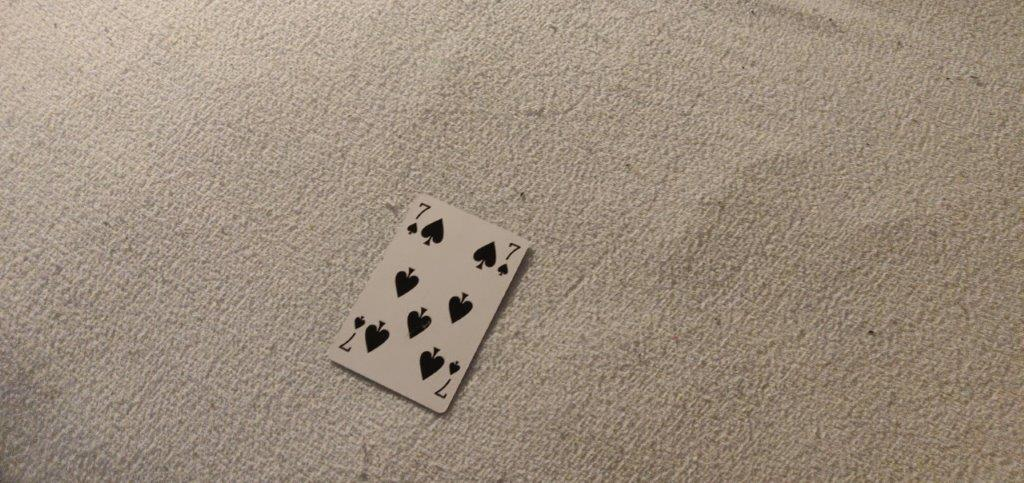7S: (404, 199, 433, 237), (496, 240, 521, 282)
